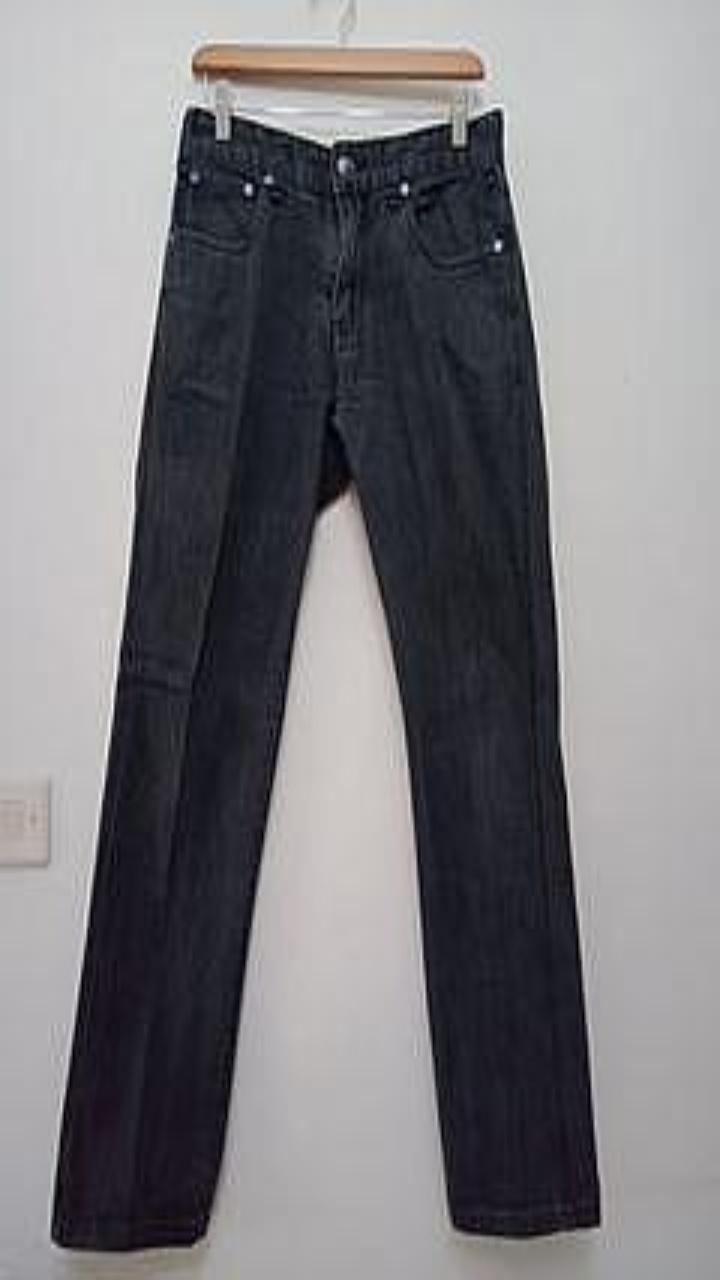Jeans: (52, 105, 599, 1249)
